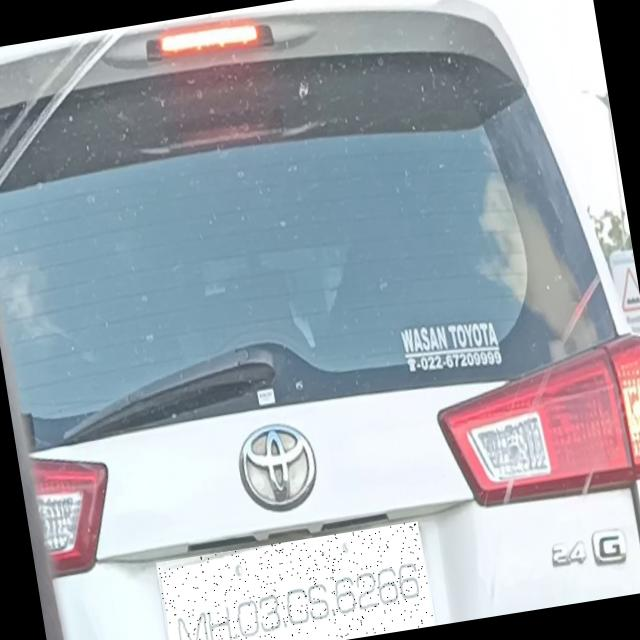Plate: (157, 522, 435, 640)
